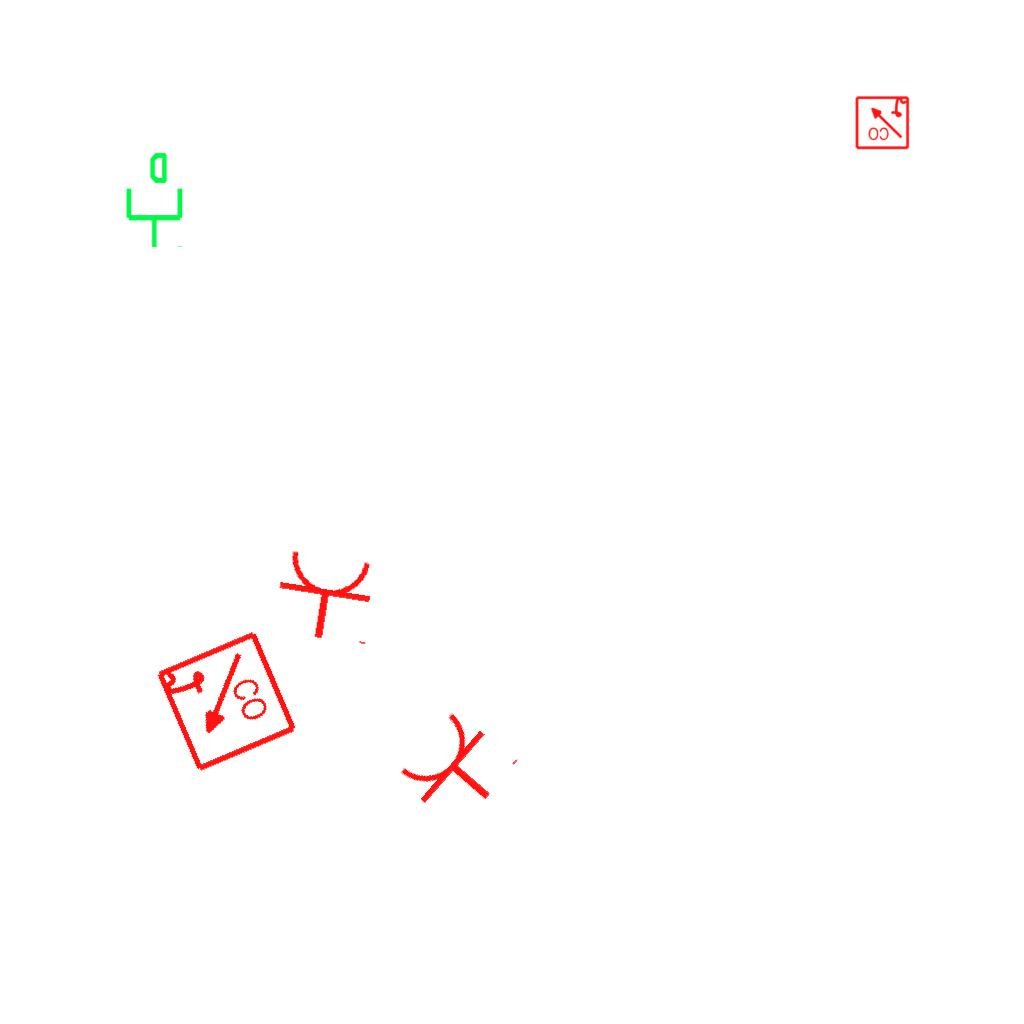Datenanschluss_einfach: (118, 150, 187, 250)
ROA_Rauchmelder_optisch_mit_Signalgeber_(Sockelsirene): (151, 628, 300, 777), (854, 94, 910, 150)
Schukosteckdose_einfach: (391, 701, 524, 835), (270, 546, 383, 648)
